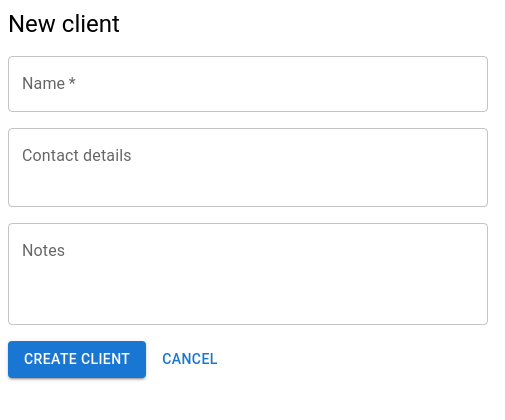
Test: ClientCreatePage › shows the server's field-level message on a 422
Type "Acme Corp" into the field labelled "Name *".
click(248, 84); type("Acme Corp")  # box x1=8 y1=56 x2=488 y2=112
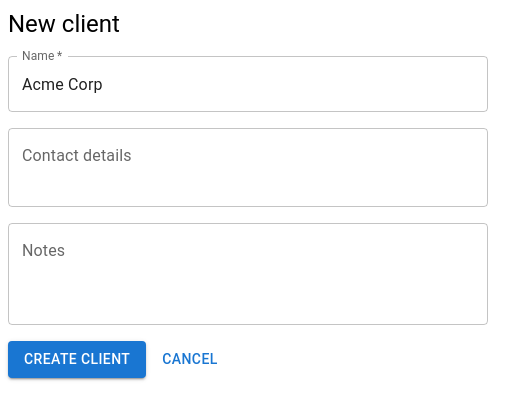
Click the button "Create client".
click(77, 359)  # box x1=8 y1=341 x2=146 y2=378
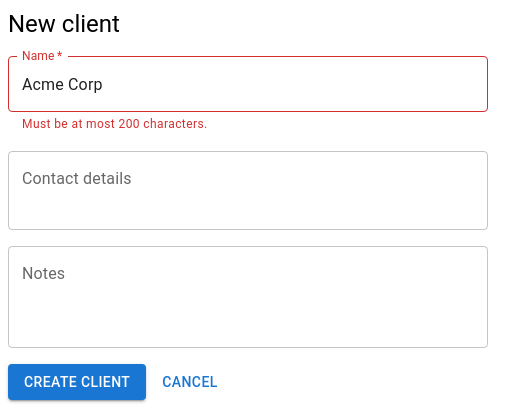
Result: the text "Must be at most 200 characters." is shown at x1=22 y1=117 x2=208 y2=131
